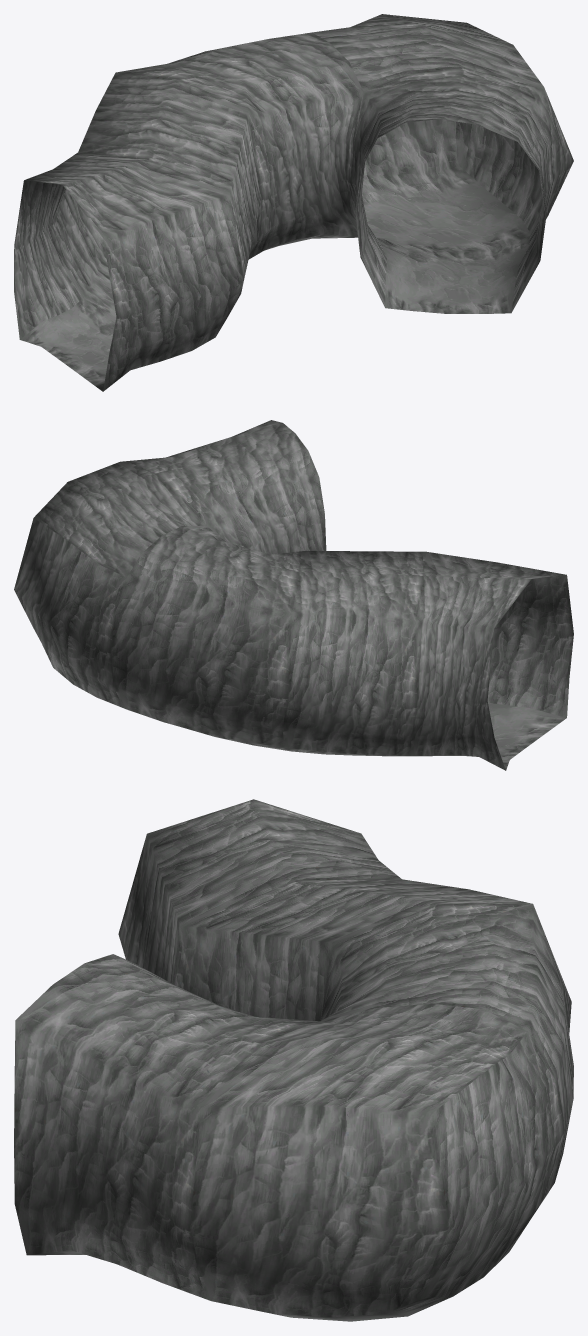
Rendered from SWORDLIGHT20_PS-AREA01_07.fbx.
3 renders of one model, top to bottom at view 1: azimuth 30°, elevation 25°; view 2: azimuth 150°, elevation 25°; view 3: azimuth 270°, elevation 25°, orthographic. The views are drawn at different scales.
Parts seen in each view (by area): view 1: SWORDLIGHT20_PS-AREA01_07; view 2: SWORDLIGHT20_PS-AREA01_07; view 3: SWORDLIGHT20_PS-AREA01_07.
Part boxes in pixels (bbox=[...]): SWORDLIGHT20_PS-AREA01_07: bbox=[14, 14, 573, 391]; SWORDLIGHT20_PS-AREA01_07: bbox=[14, 420, 573, 770]; SWORDLIGHT20_PS-AREA01_07: bbox=[14, 799, 573, 1321].
Size of the model in its own units: 221366 by 94158 by 156652.
Materials: 4 (4 with a texture image).
